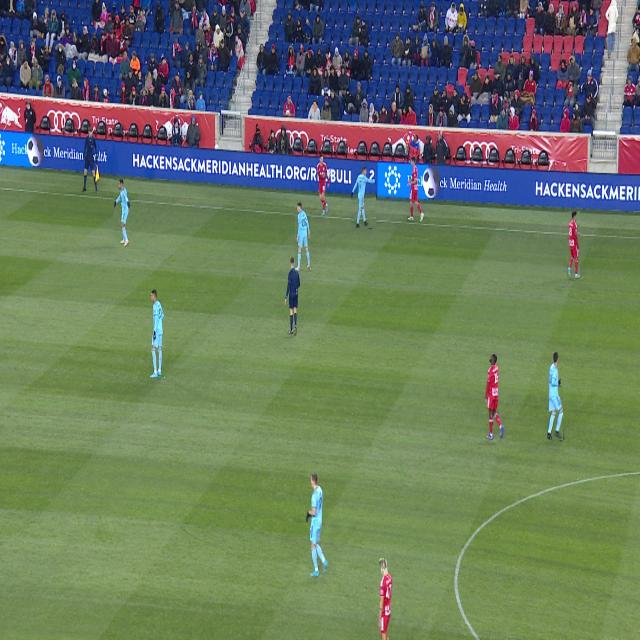player: (306, 472, 327, 577), (485, 353, 504, 439), (352, 167, 376, 228), (548, 352, 563, 440), (151, 289, 164, 378), (378, 558, 392, 640), (408, 156, 424, 223), (296, 202, 310, 271), (115, 179, 129, 247), (568, 211, 580, 279)
referee: (284, 257, 300, 335)
